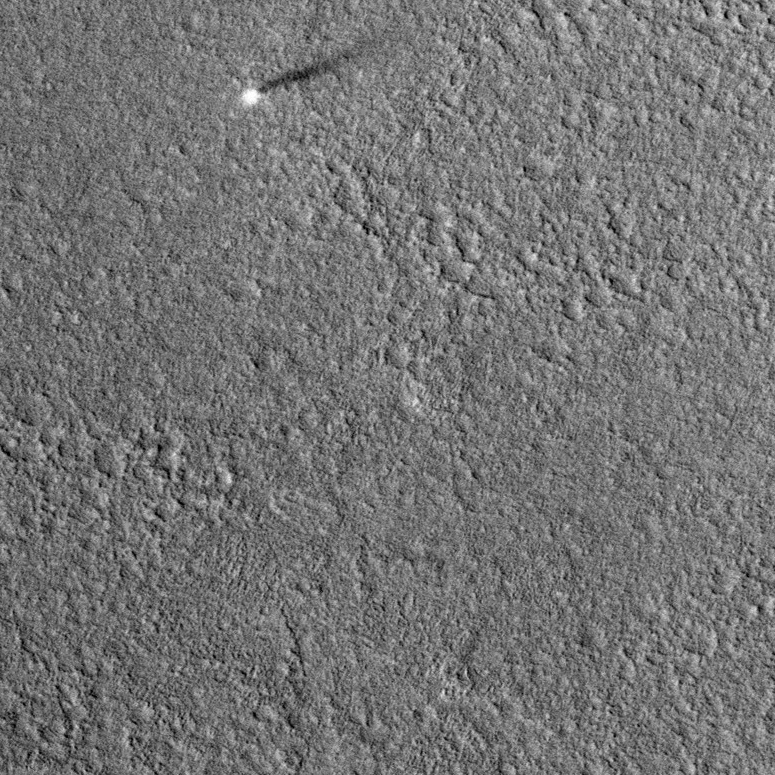dust_devil: (239, 54, 342, 108)
